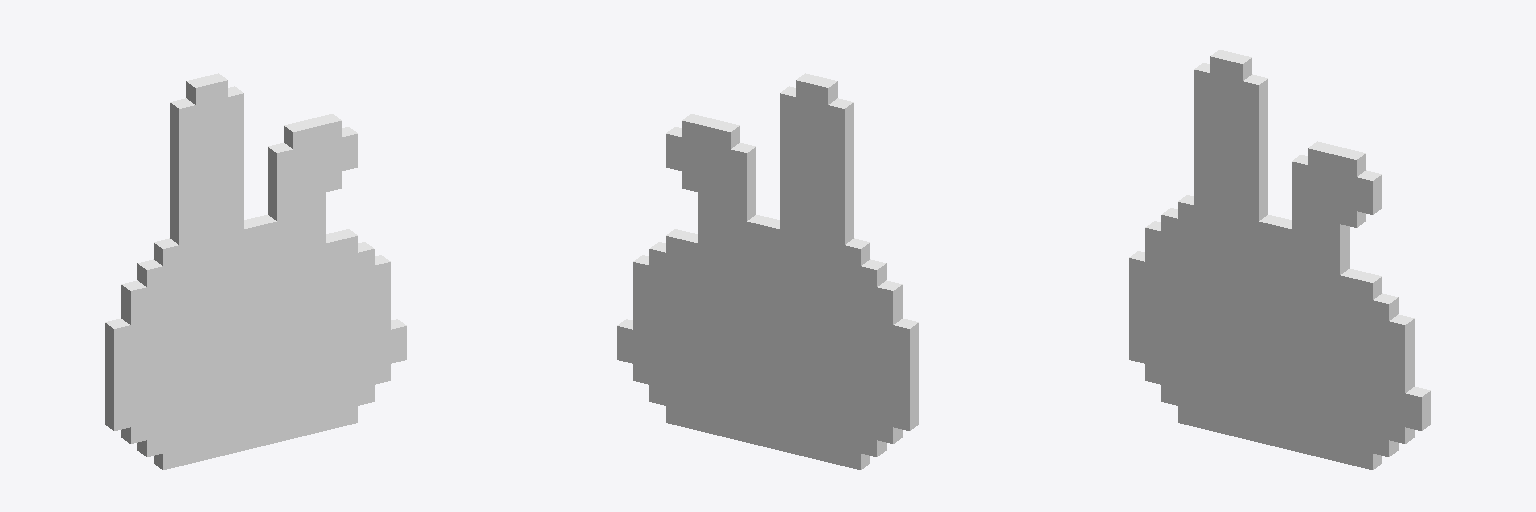
The model's file is BunnyHead-0-BunnyHead.obj.
3 views of the same model, side by side, from view 1: azimuth 30°, elevation 25°; view 2: azimuth 150°, elevation 25°; view 3: azimuth 330°, elevation 25° (orthographic).
Visible parts, largest first — view 1: BunnyHead; view 2: BunnyHead; view 3: BunnyHead.
Part boxes in pixels (x1,y1,x2,y2): BunnyHead: (105, 73, 406, 469); BunnyHead: (617, 73, 918, 469); BunnyHead: (1129, 50, 1430, 469).
Bounding box in the file's own units: 1.8 × 2.2 × 0.1.